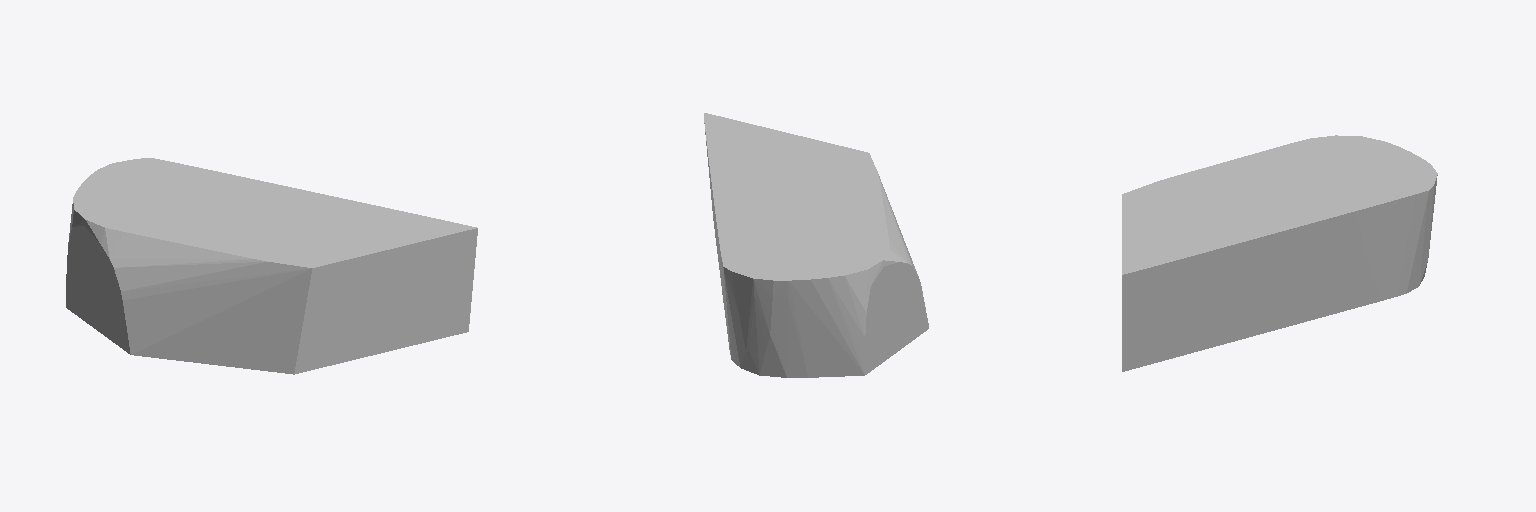
The model's file is sofa_collision_17.obj.
3 views of the same model, side by side, from view 1: azimuth 30°, elevation 25°; view 2: azimuth 150°, elevation 25°; view 3: azimuth 270°, elevation 25° (orthographic).
Size of the model in its own units: 117 by 39.76 by 112.